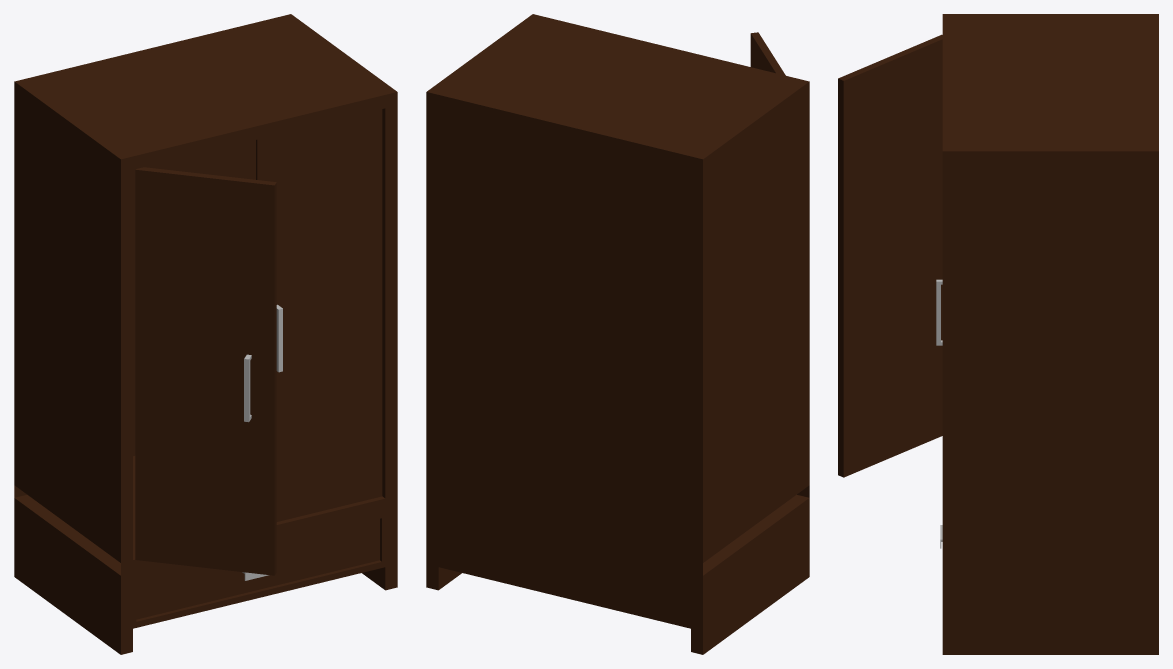
File: Closet.fbx
The picture shows the model from 3 angles, left to right: view 1: azimuth 30°, elevation 25°; view 2: azimuth 150°, elevation 25°; view 3: azimuth 270°, elevation 25°; orthographic projection.
Visible parts, largest first — view 1: Closet; view 2: Closet; view 3: Closet.
Part boxes in pixels (box(x1,y1,x2,y2)): Closet: box(14, 14, 397, 654); Closet: box(426, 14, 809, 654); Closet: box(838, 14, 1158, 654).
Bounding box in the file's own units: 131 × 225 × 130.
